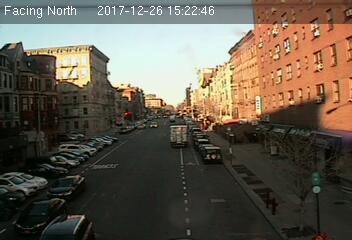car: (12, 197, 69, 237), (46, 175, 86, 200), (202, 146, 222, 162)
truck: (169, 125, 188, 148)
